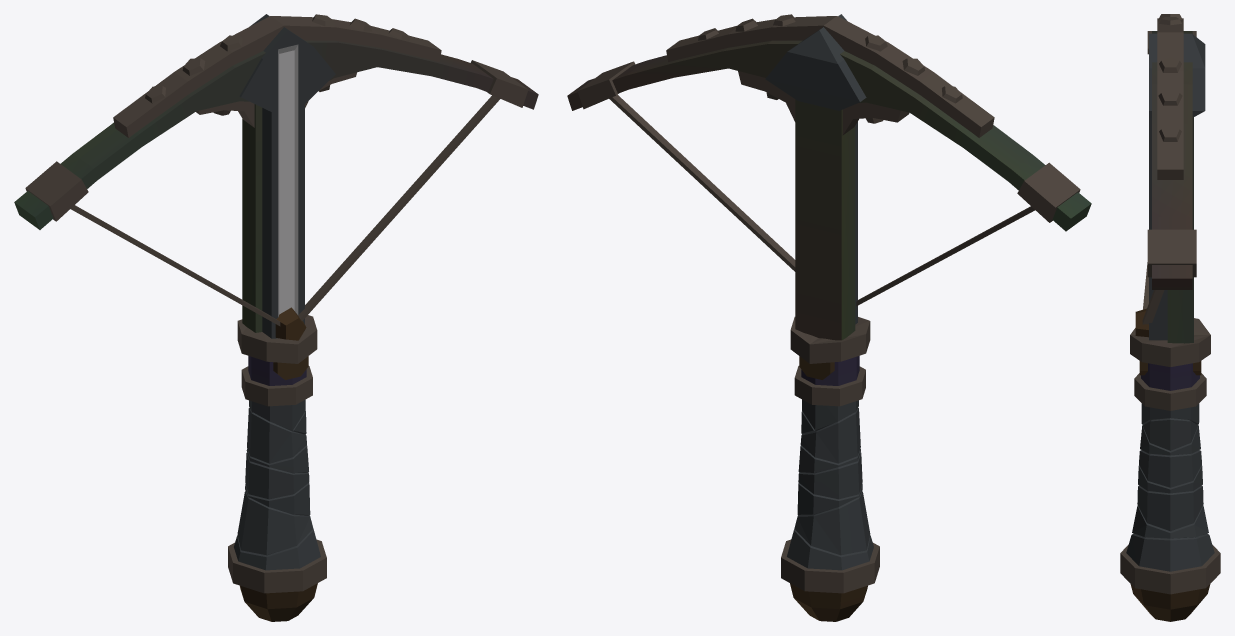
The model's file is _crossbow_7.glb.
3 views of the same model, side by side, from view 1: azimuth 30°, elevation 25°; view 2: azimuth 150°, elevation 25°; view 3: azimuth 270°, elevation 25° (orthographic). The views are drawn at different scales.
Parts seen in each view (by area): view 1: crossbow_7; view 2: crossbow_7; view 3: crossbow_7.
Part boxes in pixels (x1,y1,x2,y2): crossbow_7: (14,14,538,621); crossbow_7: (567,14,1091,621); crossbow_7: (1120,14,1220,621).
Bounding box in the file's own units: 19525 × 21944 × 3437.
Materials: 1 (1 with a texture image).
